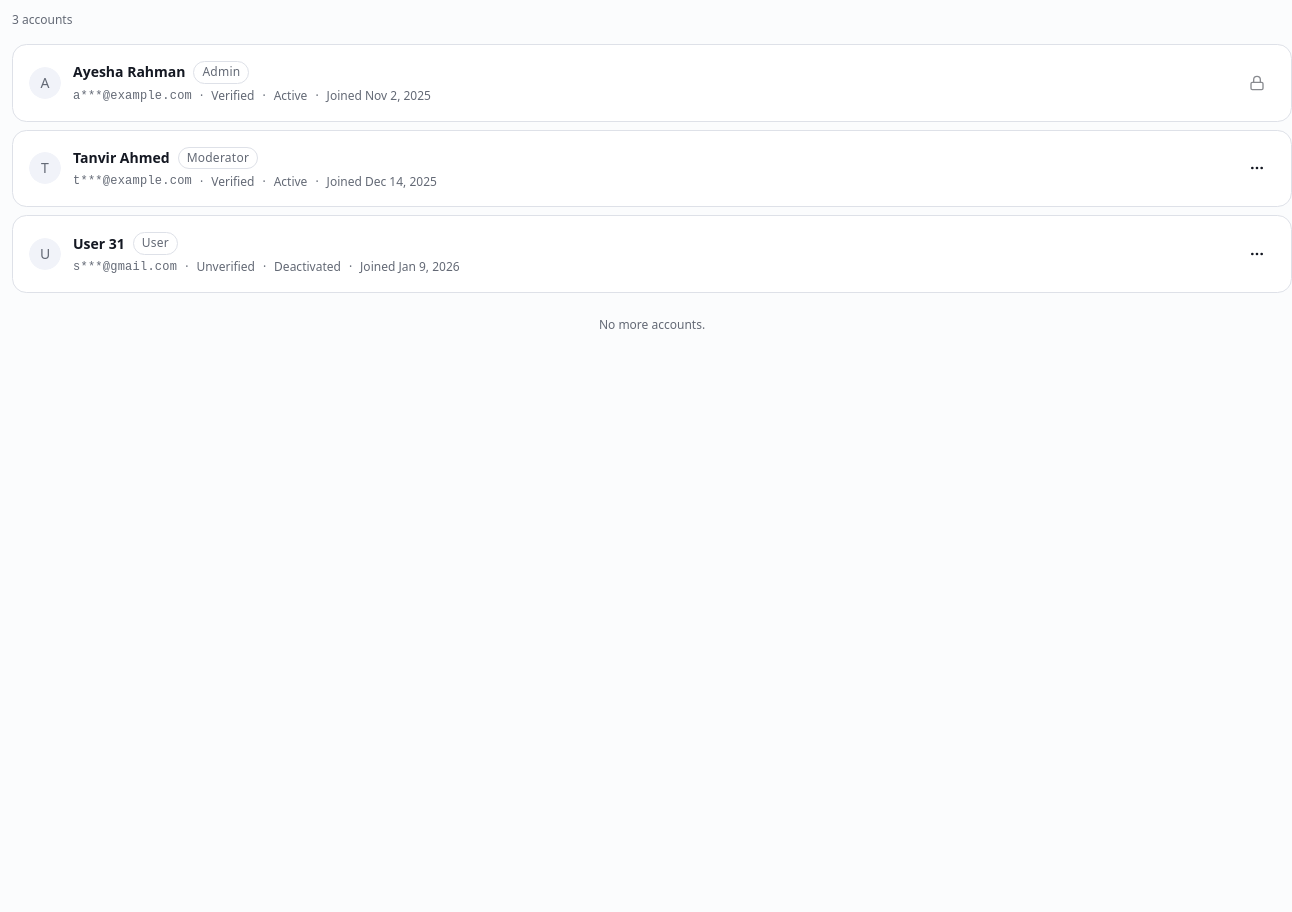
Test case: UserList › offers the verification link only on an unconfirmed account
expect the list is shown: met, box [12,44,1291,293]
Click the button named "Actions for Tanvir Ahmed" at (1257, 168), box [1239,150,1275,186]
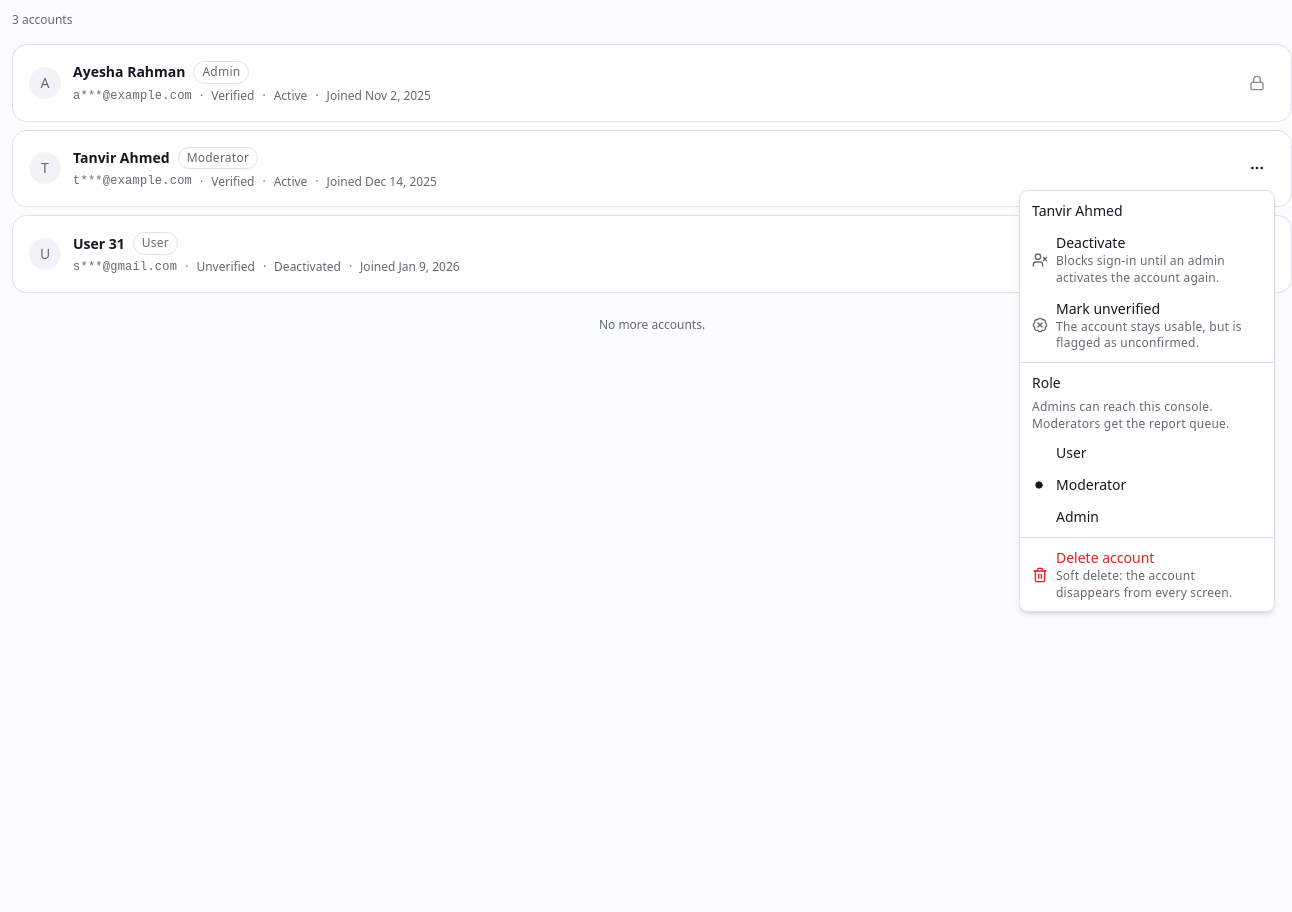
expect the menu item "Send verification link" is not shown: met
Press Escape
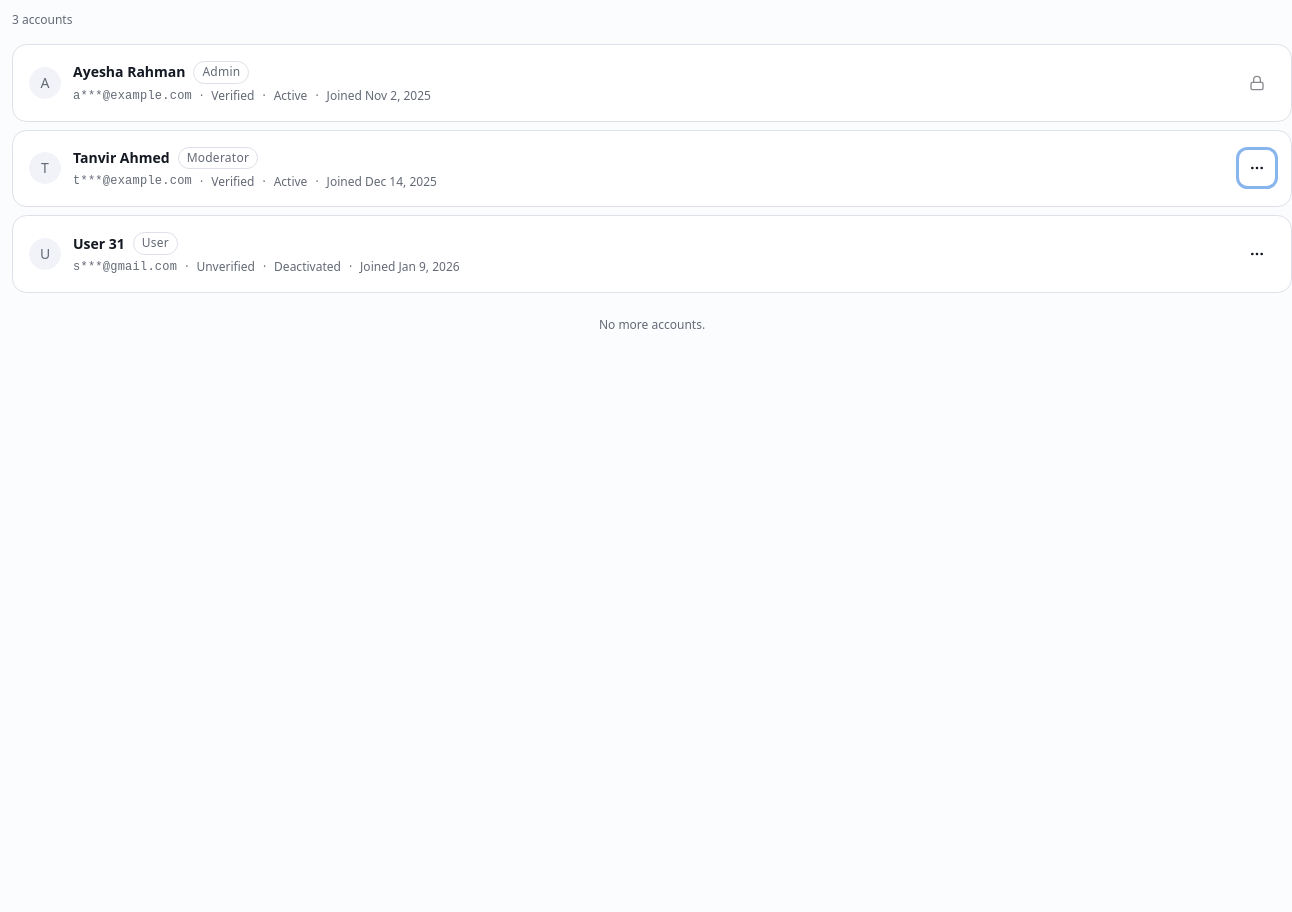
Click the button named "Actions for User 31" at (1257, 254), box [1239,236,1275,272]
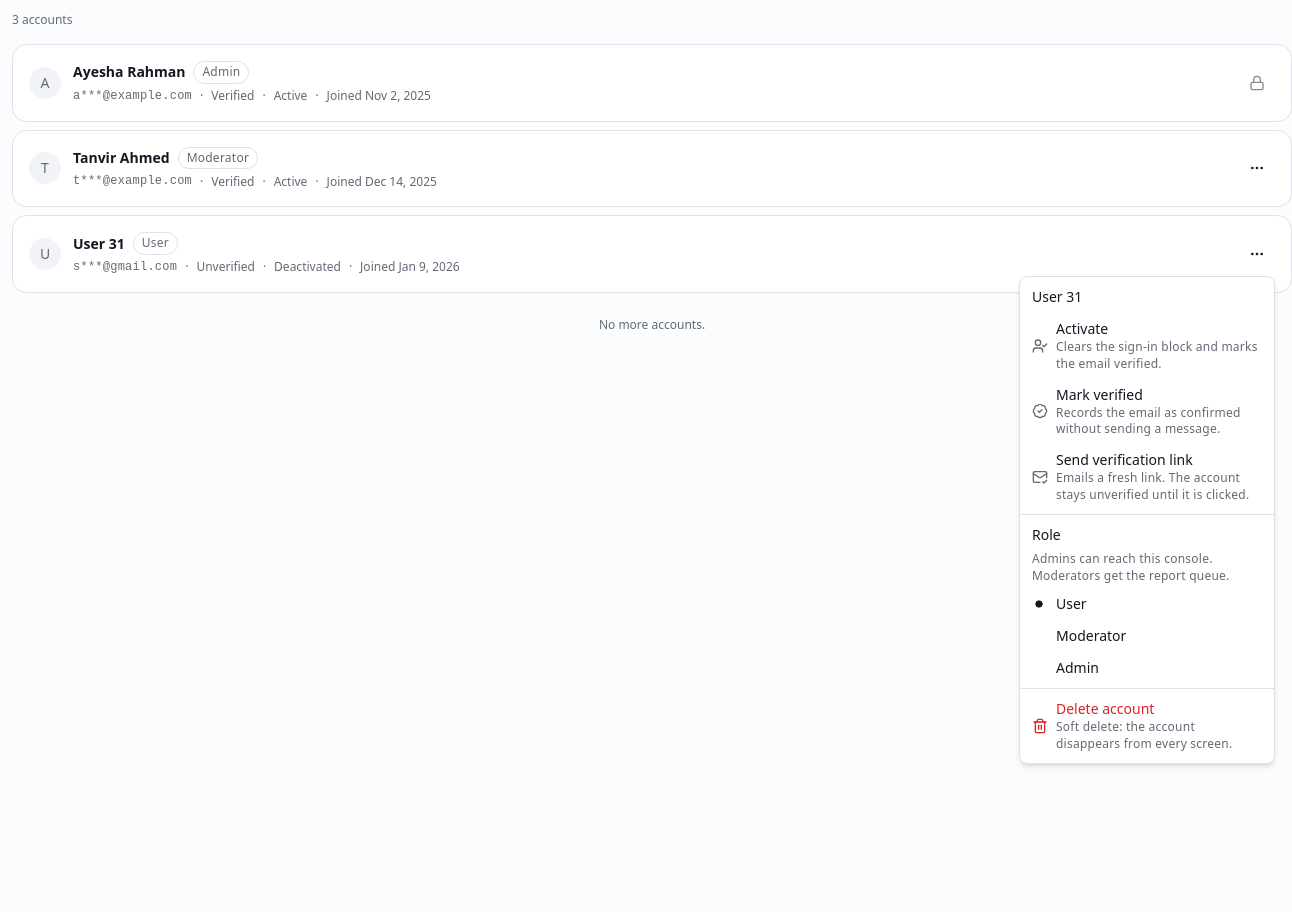
expect the menu item "Send verification link" is shown: met, box [1024,444,1270,510]
